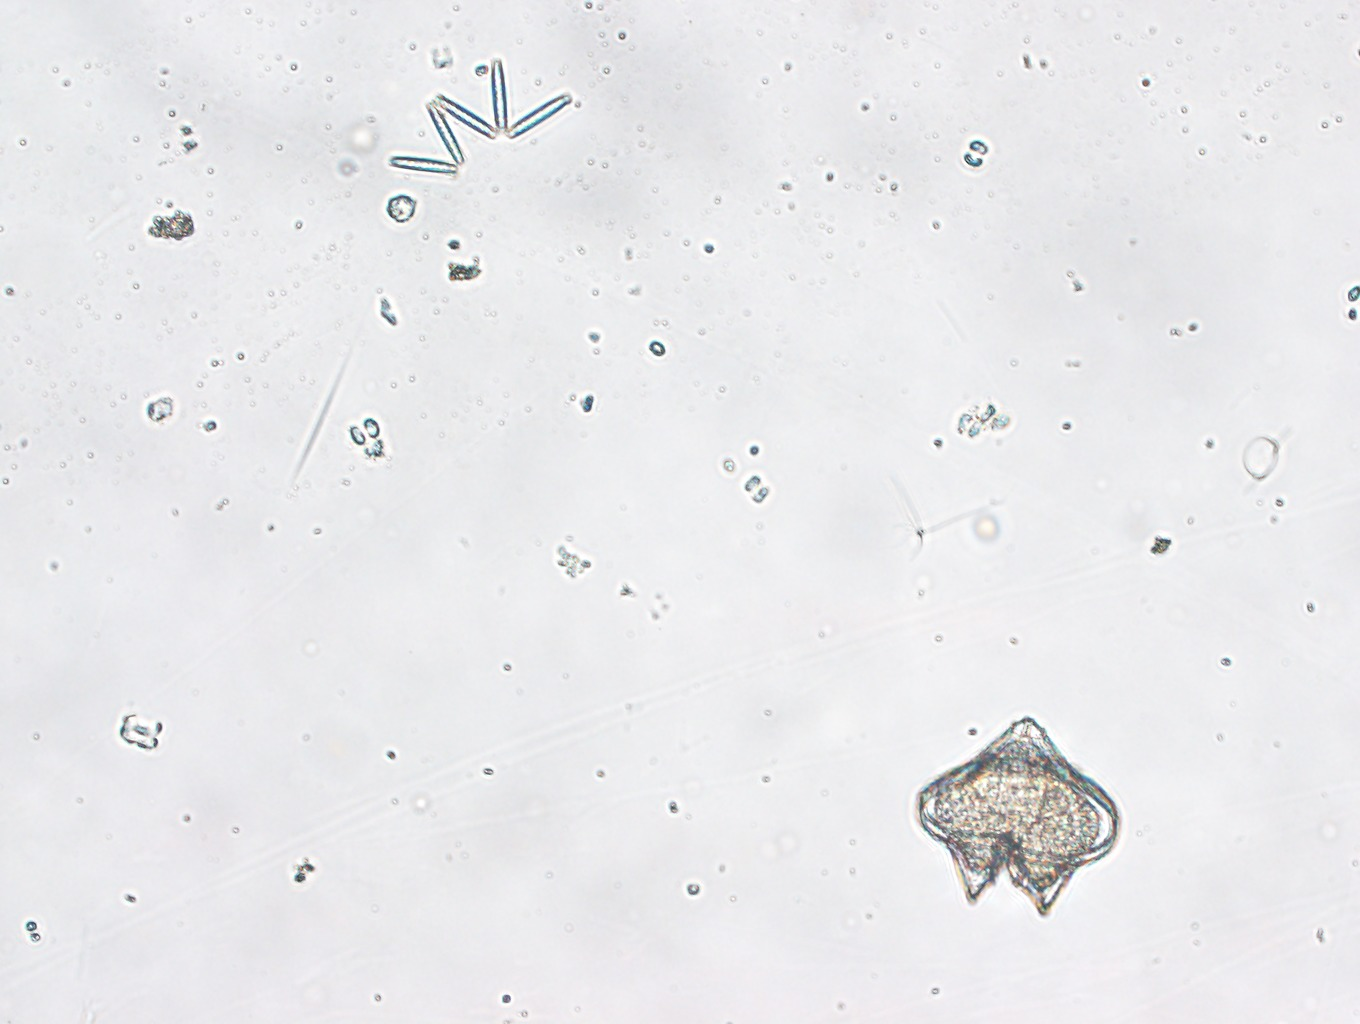protoperidinium: (907, 713, 1128, 925)
thalassionema nitzschioides: (389, 58, 585, 182)
